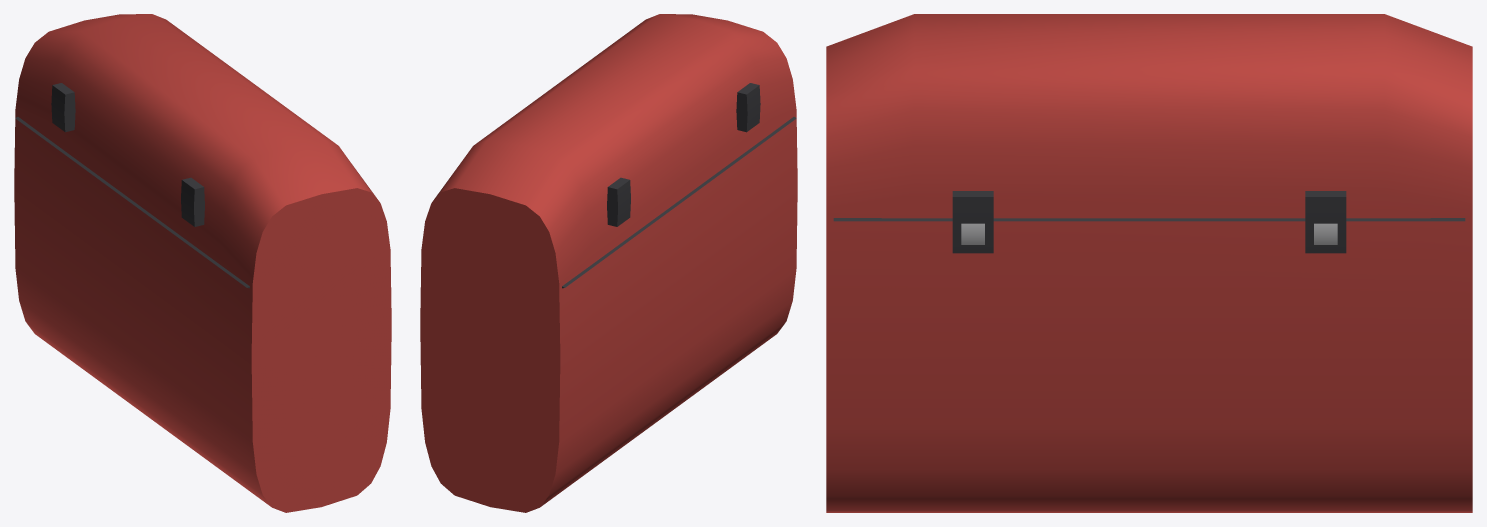
Rendered from hard_case.glb.
3 renders of one model, left to right at view 1: azimuth 30°, elevation 25°; view 2: azimuth 150°, elevation 25°; view 3: azimuth 270°, elevation 25°, orthographic. The views are drawn at different scales.
Visible parts, largest first — view 1: lod0; view 2: lod0; view 3: lod0.
Part boxes in pixels (x1,y1,x2,y2): lod0: (14,14,391,512); lod0: (420,14,797,512); lod0: (826,14,1472,512).
Size of what is drawn, in the model's own units: 0.173 by 0.345 by 0.44.
